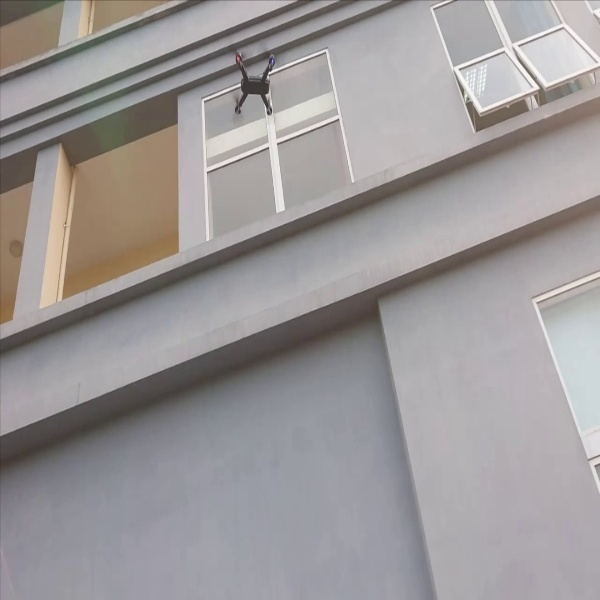drone: (221, 40, 286, 126)
